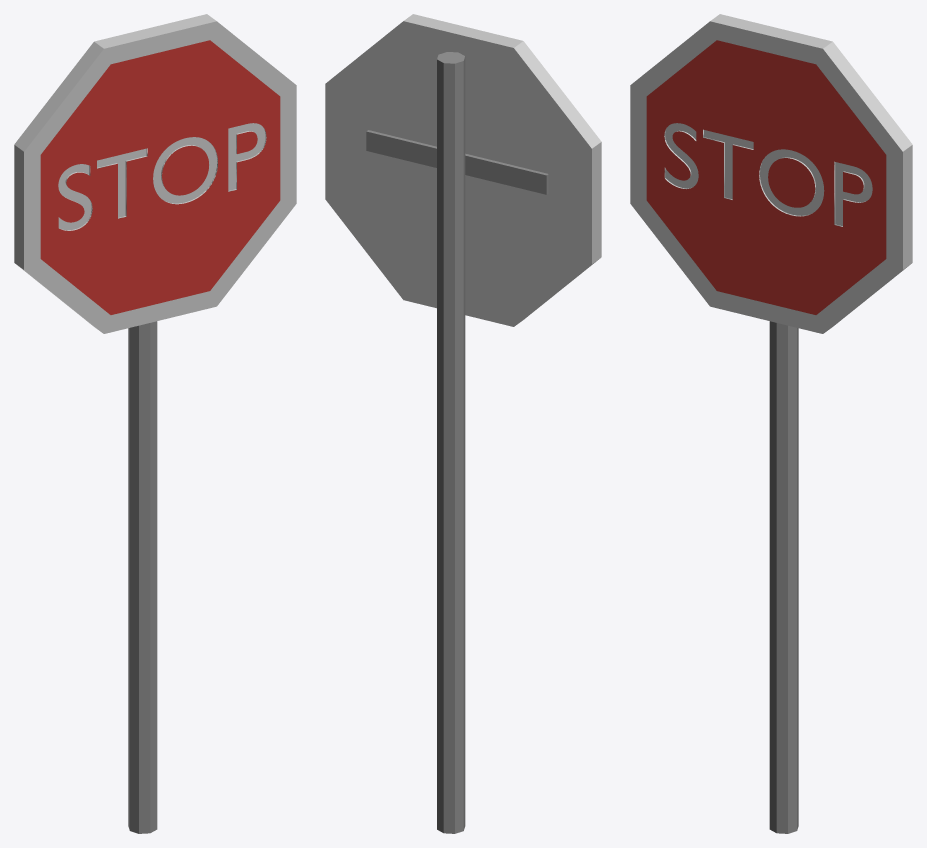
Rendered from RoadSign_02.fbx.
3 renders of one model, left to right at view 1: azimuth 30°, elevation 25°; view 2: azimuth 150°, elevation 25°; view 3: azimuth 330°, elevation 25°, orthographic. The views are drawn at different scales.
Visible parts, largest first — view 1: RoadSign_02; view 2: RoadSign_02; view 3: RoadSign_02.
Boxes of the visible parts, bbox=[...] form: RoadSign_02: bbox=[14, 14, 296, 833]; RoadSign_02: bbox=[325, 14, 601, 833]; RoadSign_02: bbox=[630, 14, 912, 833].
Size of the model in its own units: 63.86 by 180 by 10.18.
